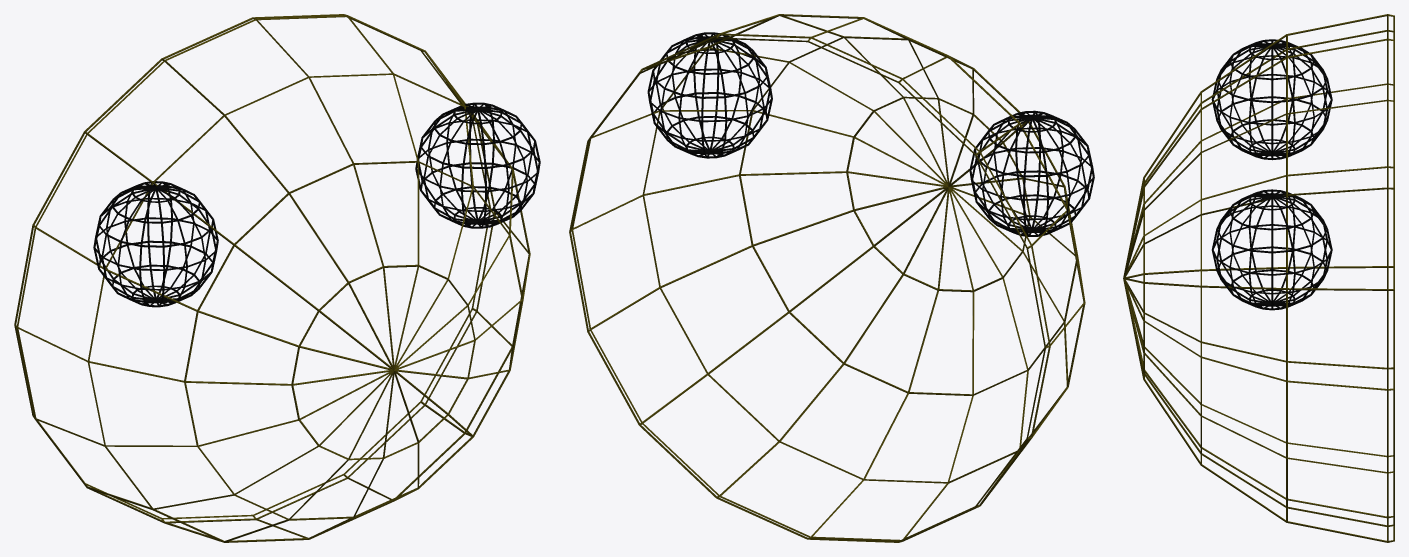
File: wire_round_top.obj
3 renders of one model, left to right at view 1: azimuth 30°, elevation 25°; view 2: azimuth 150°, elevation 25°; view 3: azimuth 270°, elevation 25°, orthographic. The views are drawn at different scales.
Visible parts, largest first — view 1: Sphere_Sphere.000_Sphere_Sphere.000, Sphere.001_Sphere.000, Sphere_Sphere.000; view 2: Sphere_Sphere.000_Sphere_Sphere.000, Sphere.001_Sphere.000, Sphere_Sphere.000; view 3: Sphere_Sphere.000_Sphere_Sphere.000, Sphere_Sphere.000, Sphere.001_Sphere.000.
Part boxes in pixels (x1,y1,x2,y2): Sphere_Sphere.000_Sphere_Sphere.000: (14,14,530,542); Sphere.001_Sphere.000: (93,181,218,307); Sphere_Sphere.000: (415,102,540,228); Sphere_Sphere.000_Sphere_Sphere.000: (569,14,1085,542); Sphere.001_Sphere.000: (969,110,1094,236); Sphere_Sphere.000: (647,32,772,158); Sphere_Sphere.000_Sphere_Sphere.000: (1123,14,1394,542); Sphere_Sphere.000: (1211,189,1332,310); Sphere.001_Sphere.000: (1211,39,1332,160).
Size of the model in its own units: 5.34 by 5.34 by 2.74.
